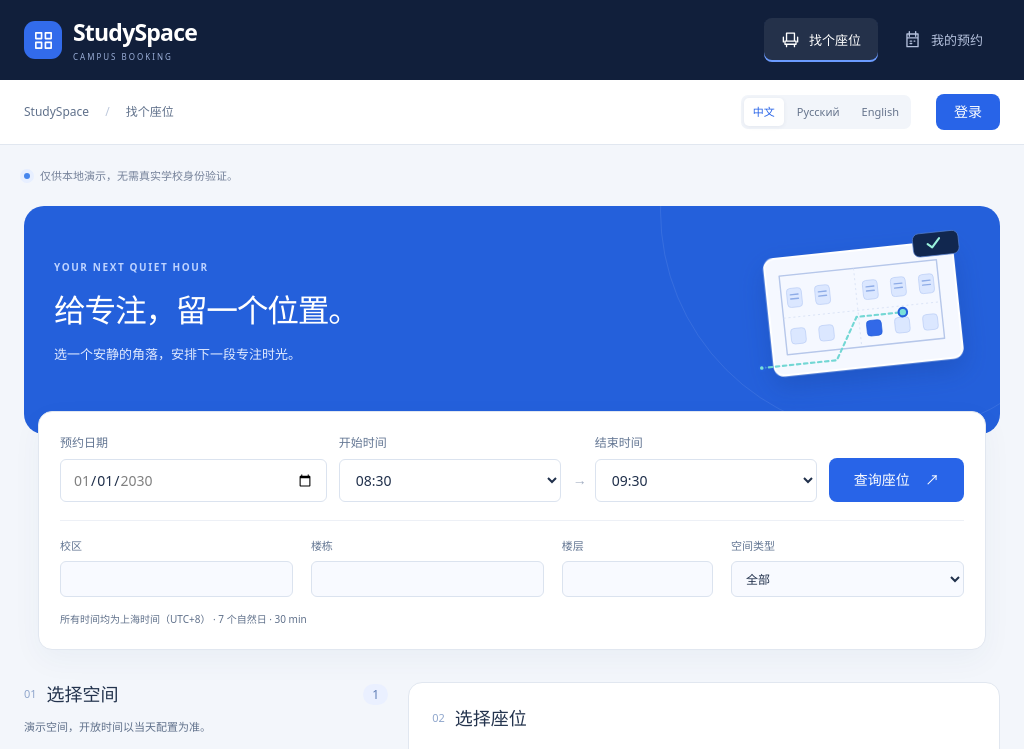
it: local reservation application › keeps the latest availability result when an older request finishes late
In the date field labelled "预约日期": (193, 481) [60,459,327,502], type "2030-01-02"
(page scrolled)
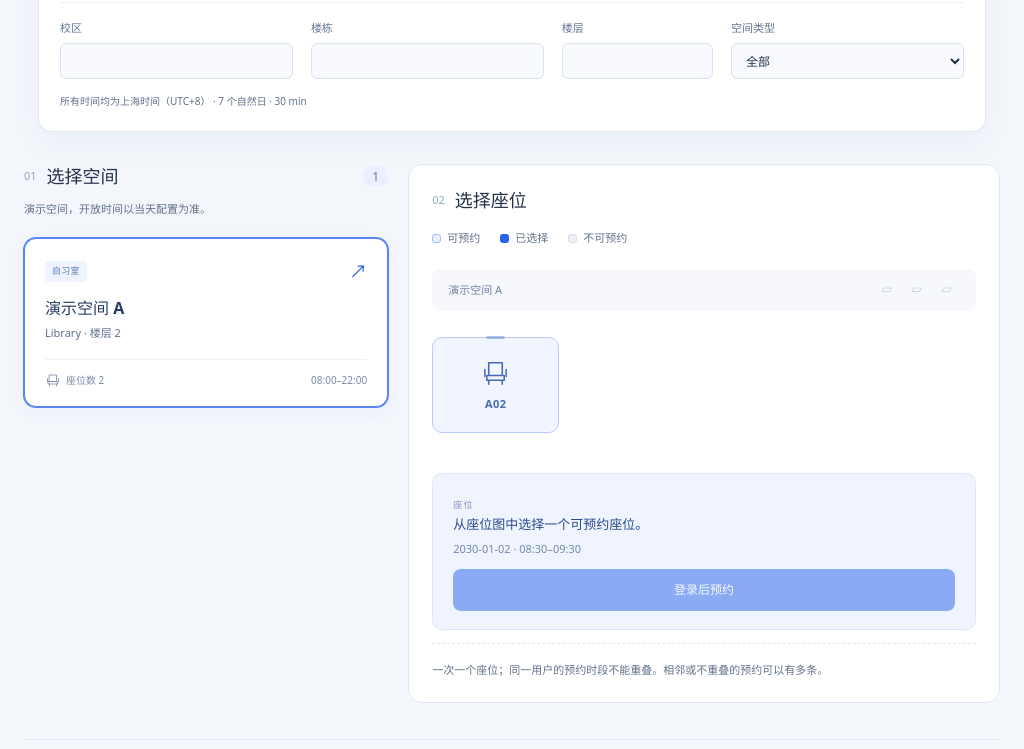
Expected: the button "A02" is enabled, [432,336,559,432]
